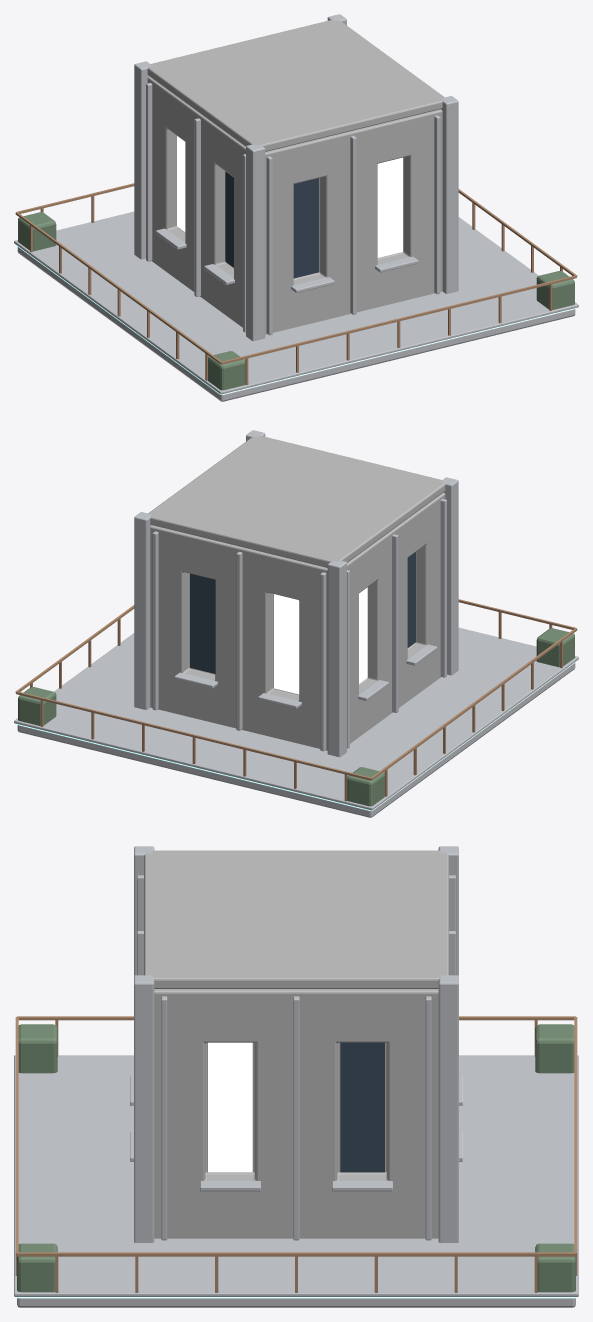
The model's file is transfer_5x5_3x3_concrete.glb.
The picture shows the model from 3 angles, top to bottom: view 1: azimuth 30°, elevation 25°; view 2: azimuth 150°, elevation 25°; view 3: azimuth 270°, elevation 25°; orthographic projection. The views are drawn at different scales.
Visible parts, largest first — view 1: ext_wall, int_slab_edge, int_ceiling, int_columns, ext_frames, ext_deck_rail, int_slab, ext_deck_plants, ext_panes_dark, ext_panes_lit, ext_deck_glow; view 2: ext_wall, int_slab_edge, int_ceiling, int_columns, ext_frames, ext_deck_rail, int_slab, ext_deck_plants, ext_panes_lit, ext_panes_dark, ext_deck_glow; view 3: int_slab_edge, ext_wall, int_ceiling, int_columns, ext_frames, ext_deck_plants, ext_deck_rail, ext_panes_lit, ext_panes_dark, int_slab, ext_deck_glow.
Boxes of the visible parts, x1,y1,x2,y2 form: ext_wall: (147,76,442,334); int_slab_edge: (14,211,578,394); int_ceiling: (147,19,444,151); int_columns: (134,14,458,341); ext_frames: (146,83,440,335); ext_deck_rail: (15,183,577,385); int_slab: (17,247,575,401); ext_deck_plants: (18,212,574,390); ext_panes_dark: (225,171,318,278); ext_panes_lit: (177,136,402,257); ext_deck_glow: (15,244,576,394); ext_wall: (150,492,445,750); int_slab_edge: (14,627,578,810); int_ceiling: (148,435,445,567); int_columns: (134,430,458,757); ext_frames: (152,499,446,751); ext_deck_rail: (15,599,577,801); int_slab: (17,663,575,817); ext_deck_plants: (18,628,574,806); ext_panes_lit: (274,587,367,694); ext_panes_dark: (190,552,415,673); ext_deck_glow: (16,660,577,810); int_slab_edge: (14,1055,578,1296); ext_wall: (154,989,438,1238); int_ceiling: (144,850,448,988); int_columns: (134,846,458,1242); ext_frames: (130,875,462,1240); ext_deck_plants: (17,1024,575,1292); ext_deck_rail: (15,1016,577,1292); ext_panes_lit: (208,1042,252,1172); ext_panes_dark: (340,1042,384,1172); int_slab: (17,1298,575,1307); ext_deck_glow: (15,1297,577,1298).
Bounding box in the file's own units: 5.56 × 3 × 5.56.
